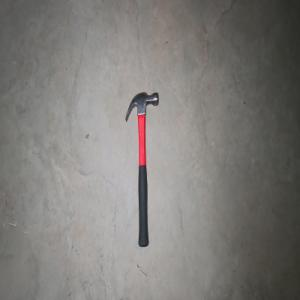Hammer: (124, 91, 158, 247)
